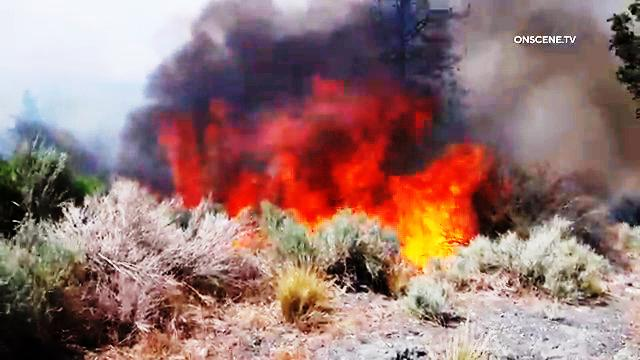fire: (162, 89, 503, 275)
smoke: (146, 0, 383, 91), (482, 52, 619, 157), (0, 104, 154, 191)
